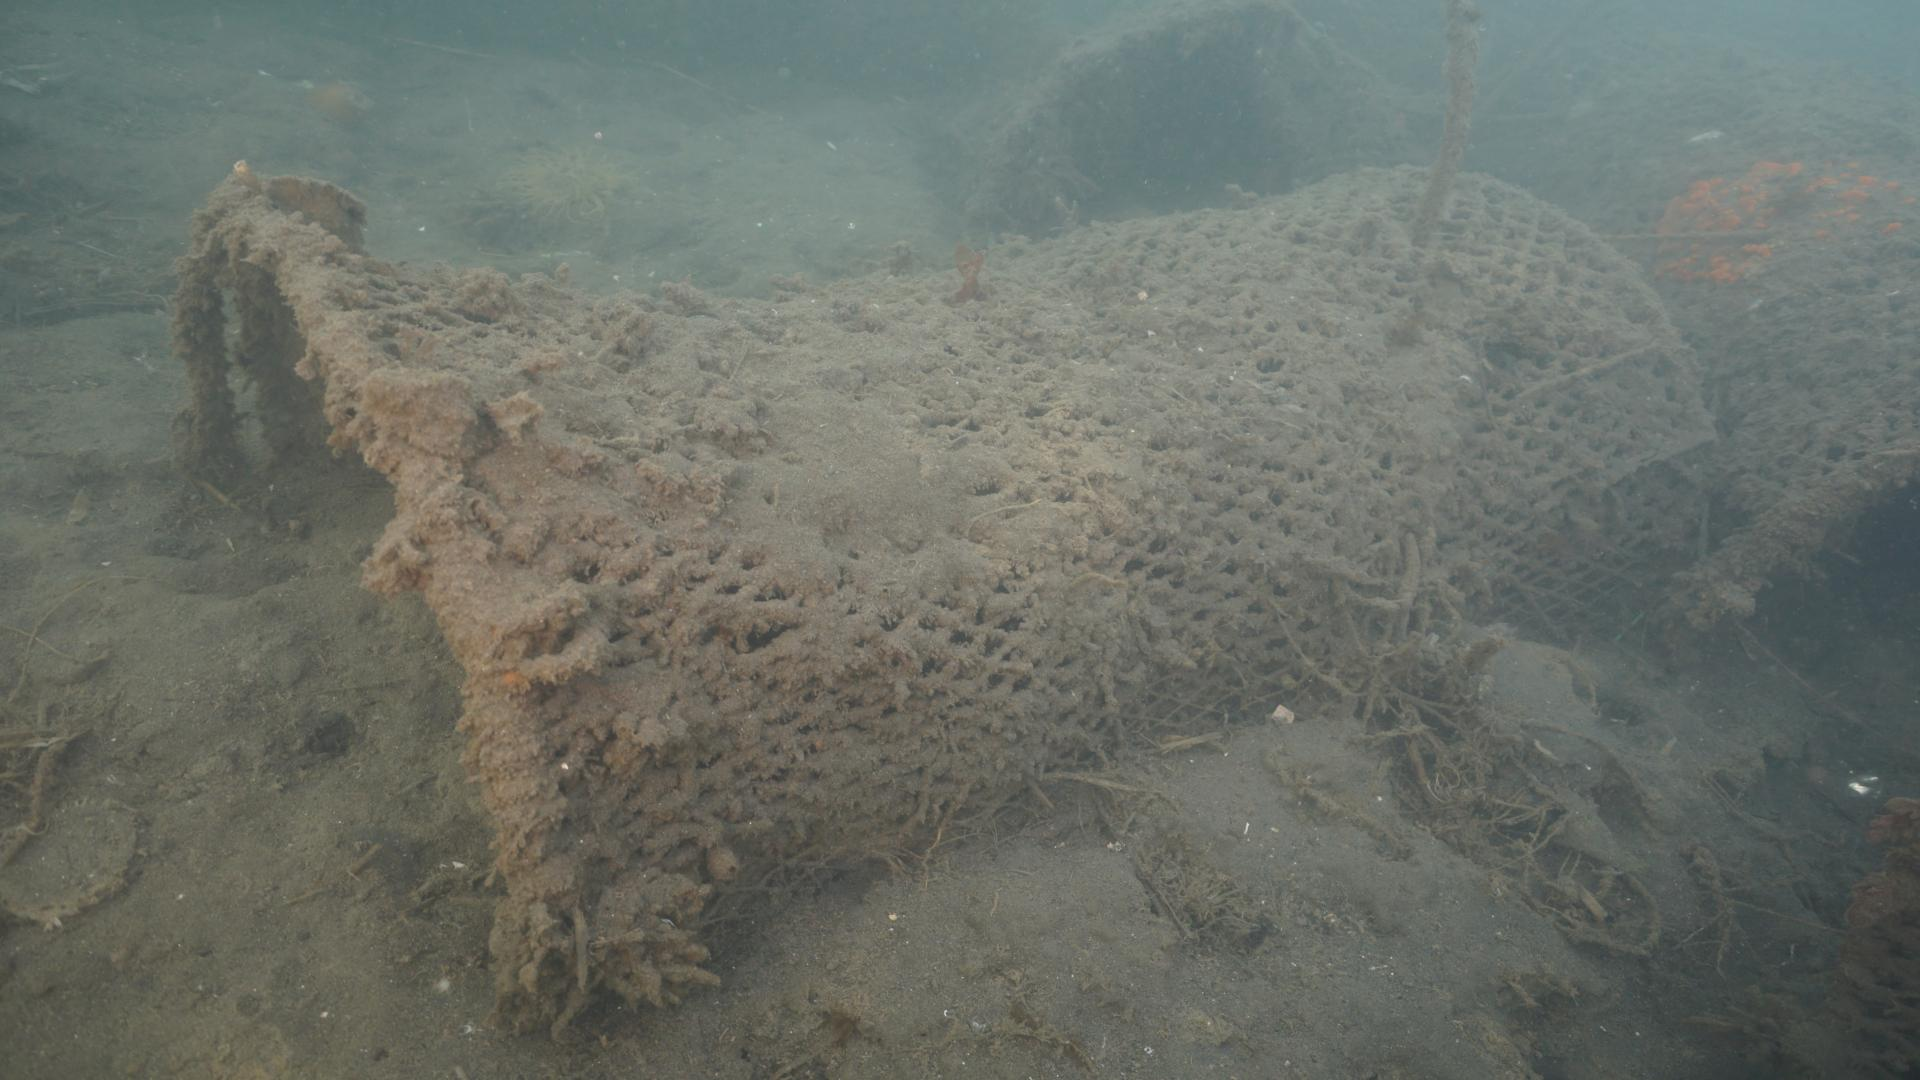spring fish trap: (175, 160, 1722, 1039), (953, 0, 1920, 636)
